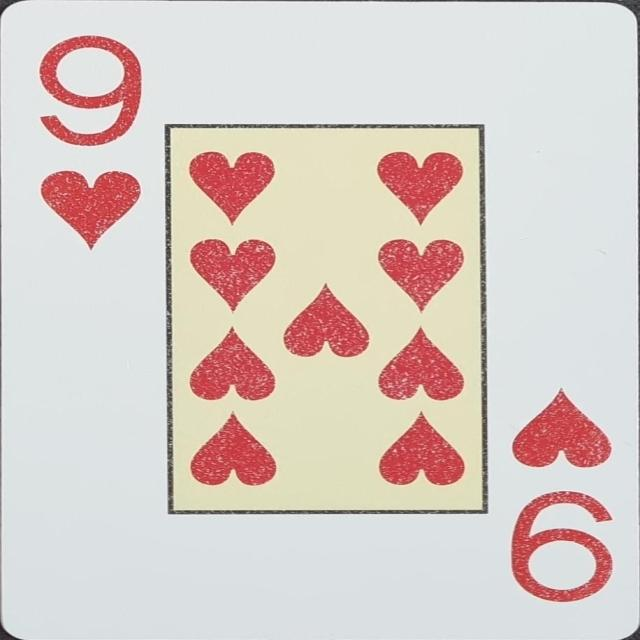9h: (29, 24, 150, 258), (506, 384, 620, 606)
